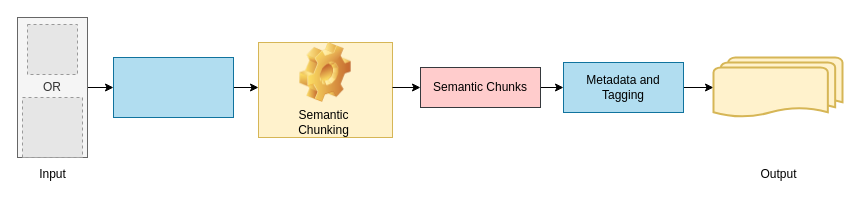
Some shapes in this 861 by 207 pixel diagram are drawn without their labels. Grey dashed boxes stand in for pictures. Here are the shapes that lost their labels. From the top down, the centre of each, then its label:
At pixel 173 87: "Document loader and Pre-chunking".
At pixel 777 87: "Content rich traceable chunks".
